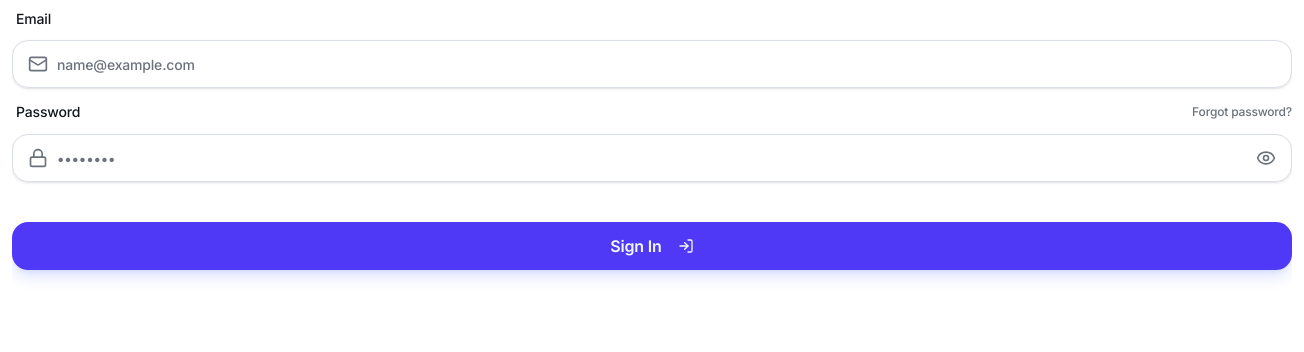
Scenario: LoginForm Component › shows error message when API fails (Invalid Credentials)
The image size is (1304, 352).
Type "wrong@test.com" into the field with placeholder "name@example.com".
click(652, 64); type("wrong@test.com")  # box [12,40,1292,88]
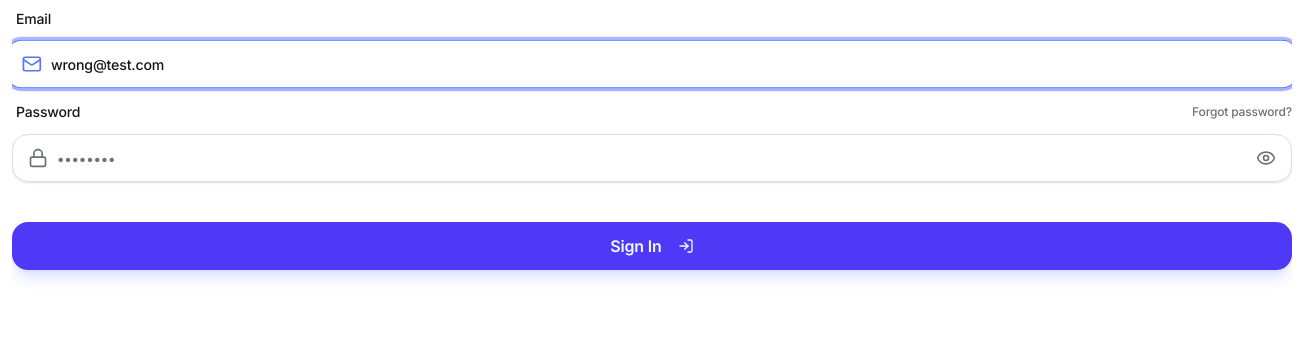
Type "wrongpass" into the password field with placeholder "••••••••".
click(652, 158); type("wrongpass")  # box [12,134,1292,182]
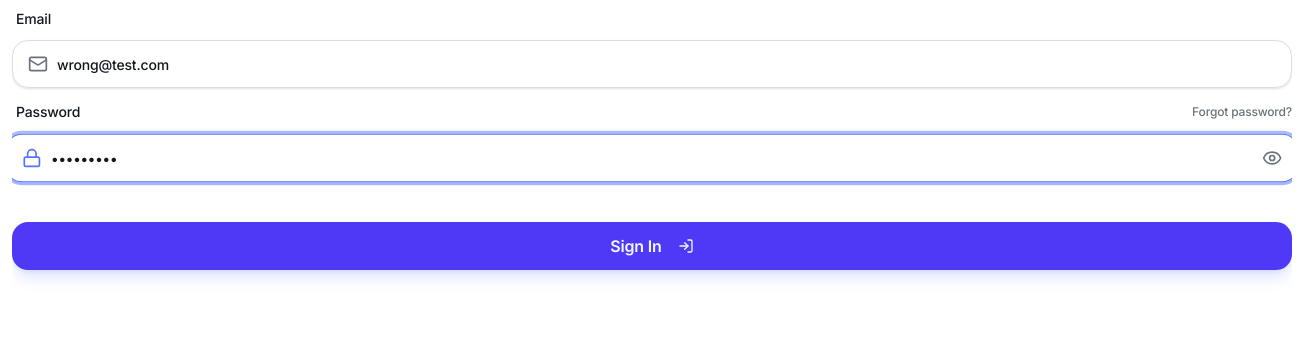
Click the button "Sign In".
click(652, 246)  # box [12,222,1292,270]
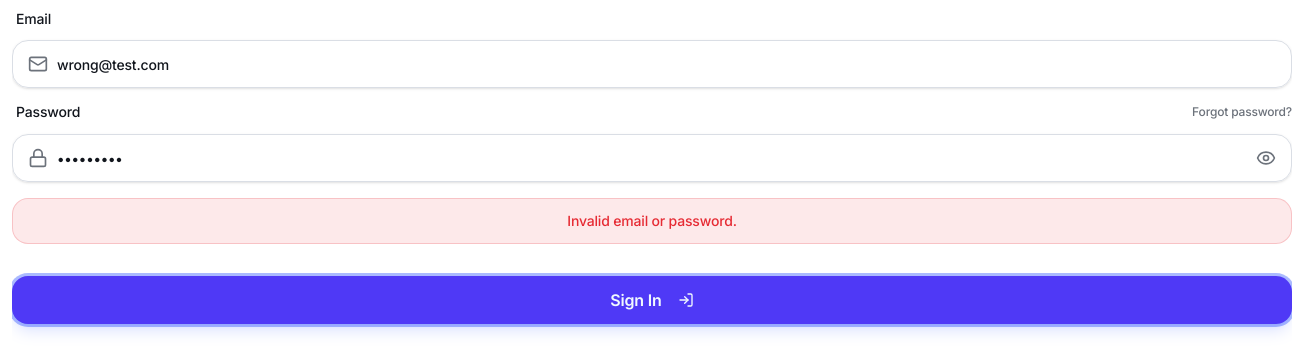
Now the text "Invalid email or password." is shown, box [12,198,1292,244]
